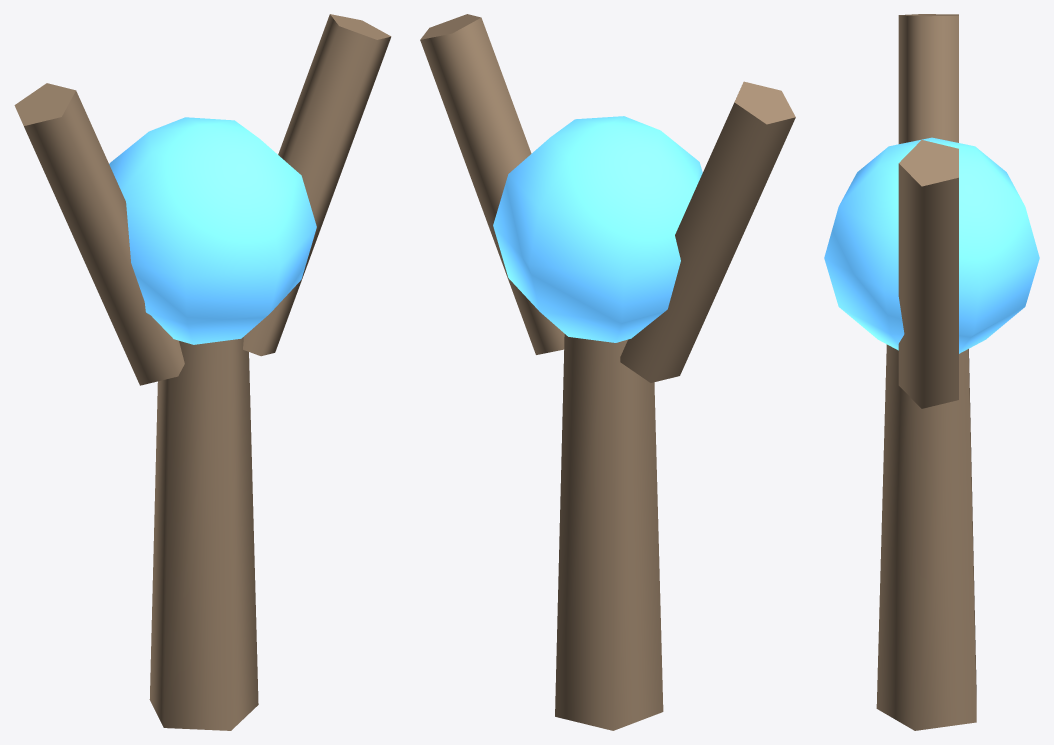
File: nazarw.glb
3 renders of one model, left to right at view 1: azimuth 30°, elevation 25°; view 2: azimuth 150°, elevation 25°; view 3: azimuth 270°, elevation 25°, orthographic. The views are drawn at different scales.
Bounding box in the file's own units: 0.3694 × 0.6293 × 0.195.
